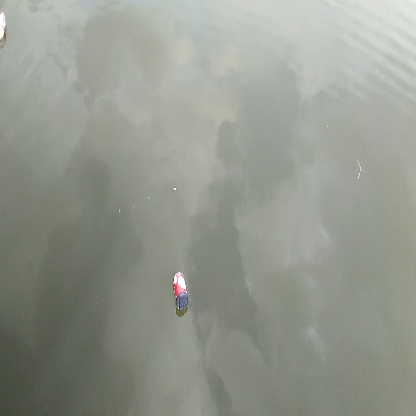bottle: (170, 267, 193, 315)
